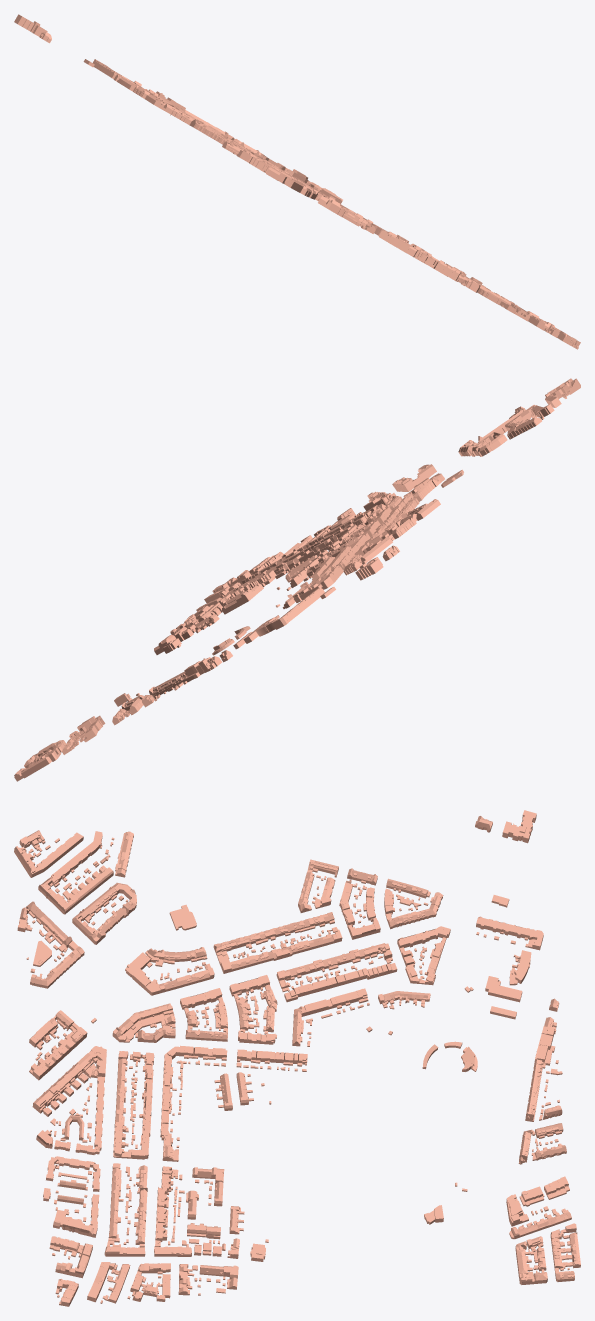
The picture shows the model from 3 angles, top to bottom: view 1: azimuth 30°, elevation 25°; view 2: azimuth 150°, elevation 25°; view 3: azimuth 270°, elevation 25°; orthographic projection. The views are drawn at different scales.
Size of the model in its own units: 538 by 385 by 651.
